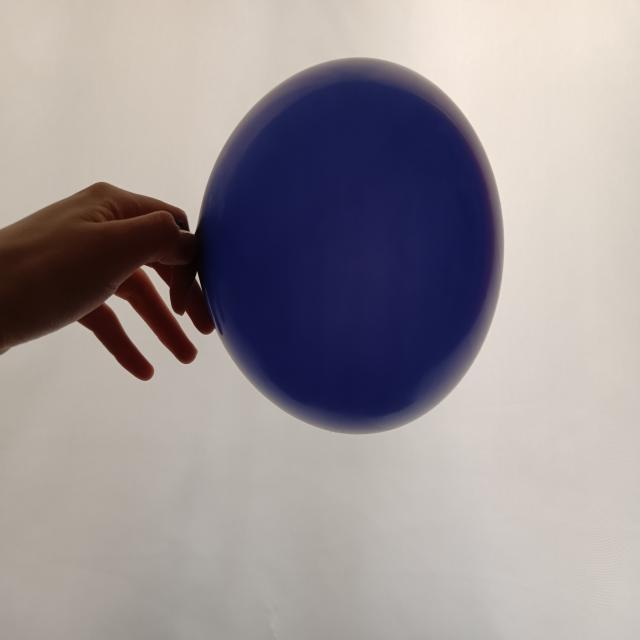blue: (198, 59, 507, 436)
